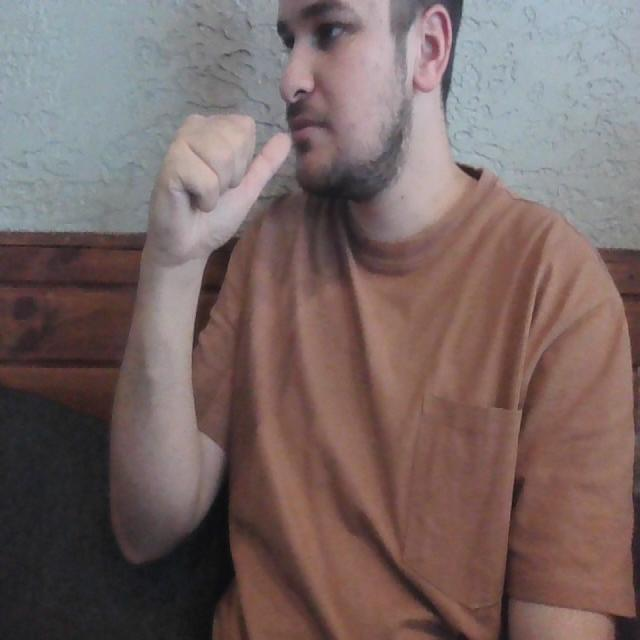icmek: (144, 103, 348, 248)
